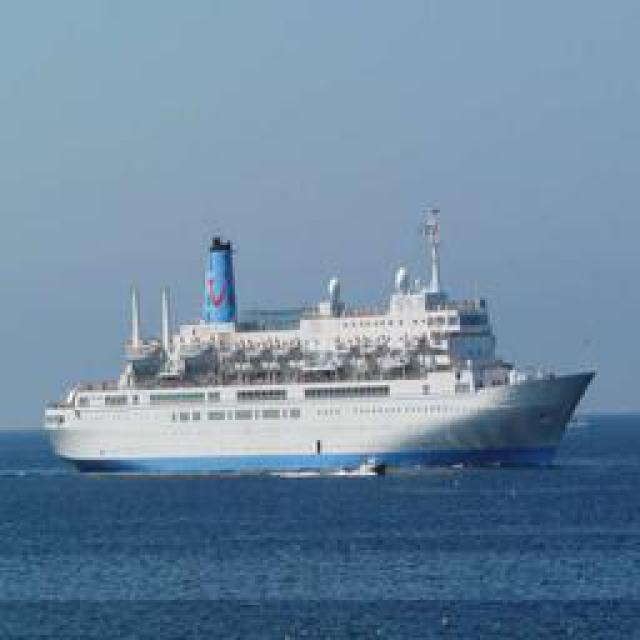Ship: (47, 204, 600, 467)
